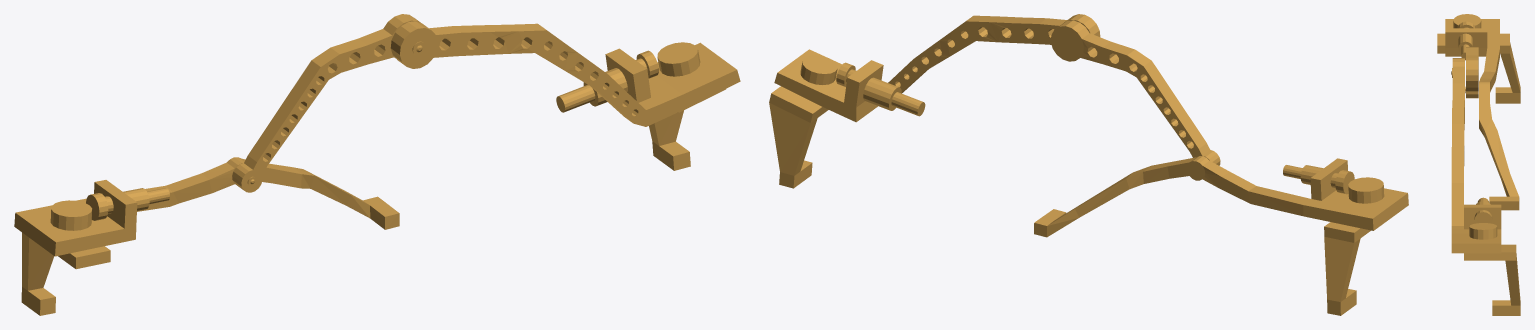
The model's file is rover-suspension-netfabb.glb.
3 views of the same model, side by side, from view 1: azimuth 30°, elevation 25°; view 2: azimuth 150°, elevation 25°; view 3: azimuth 270°, elevation 25° (orthographic). The views are drawn at different scales.
Bounding box in the file's own units: 25.99 × 8.4 × 4.03.
